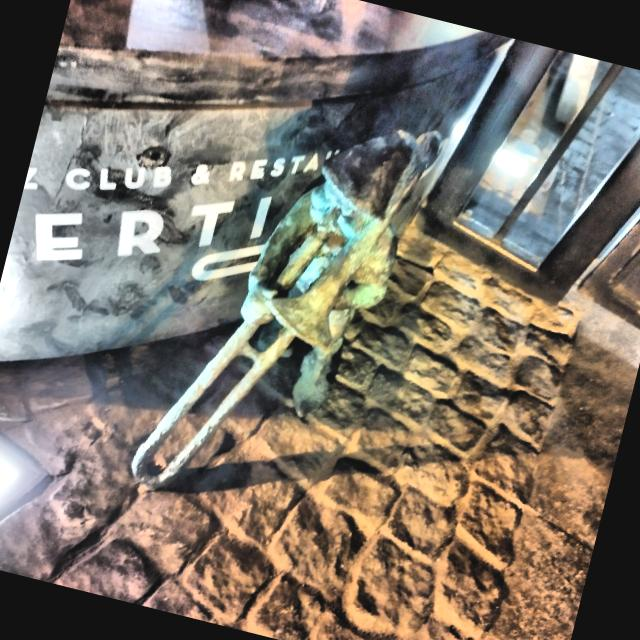Vertigus: (131, 131, 441, 490)
